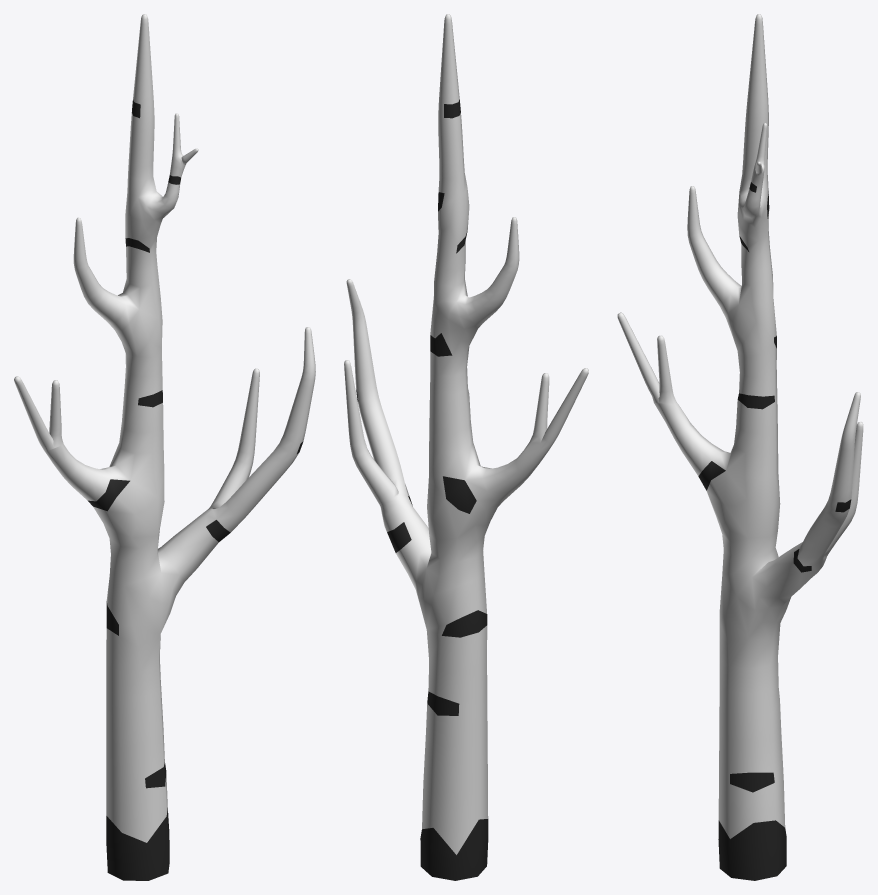
Rendered from Tree Birch 1.fbx.
The picture shows the model from 3 angles, left to right: view 1: azimuth 30°, elevation 25°; view 2: azimuth 150°, elevation 25°; view 3: azimuth 330°, elevation 25°; orthographic projection.
Visible parts, largest first — view 1: Tree Birch 1; view 2: Tree Birch 1; view 3: Tree Birch 1.
Boxes of the visible parts, x1,y1,x2,y2 form: Tree Birch 1: (14, 14, 315, 880); Tree Birch 1: (344, 14, 588, 880); Tree Birch 1: (617, 14, 863, 880).
Size of the model in its own units: 361 by 1093 by 133.
